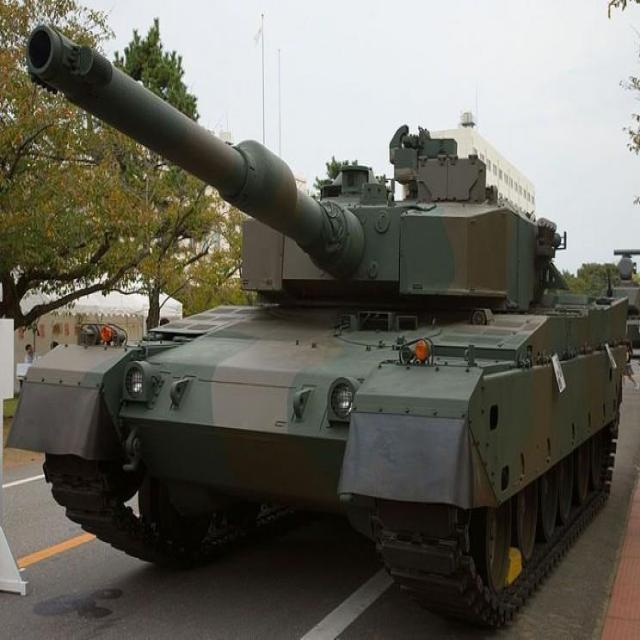Tanks: (13, 26, 624, 598)
